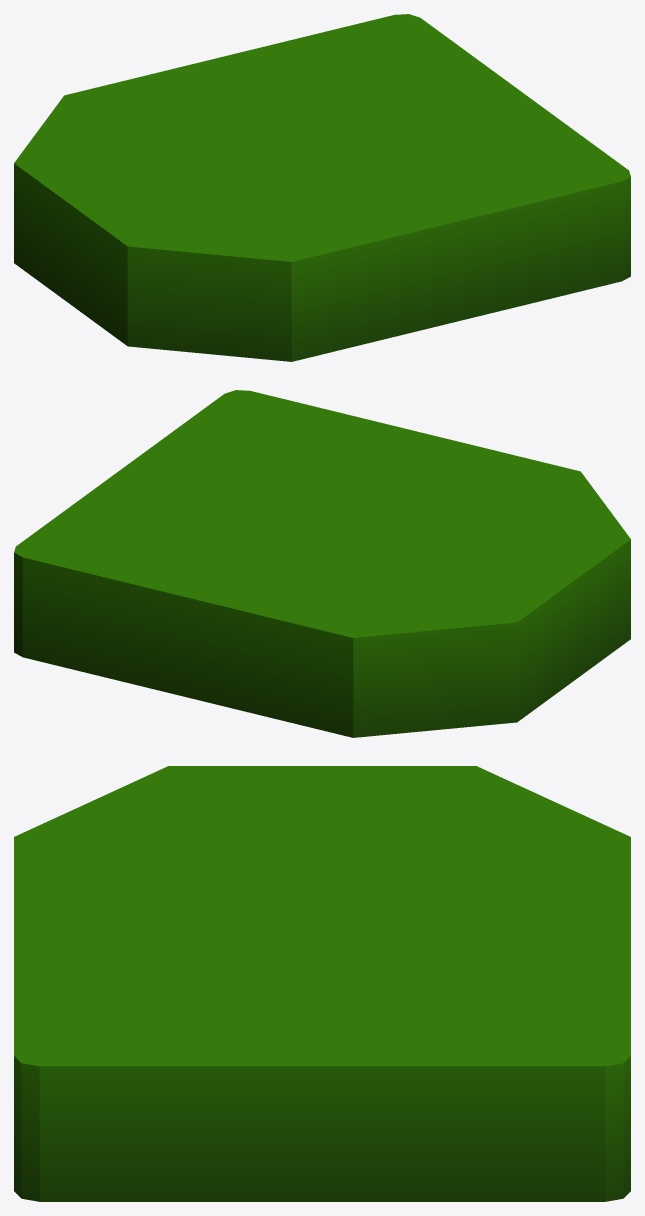
File: levetta_monitor_onoff.fbx
3 views of the same model, one above another, from view 1: azimuth 30°, elevation 25°; view 2: azimuth 150°, elevation 25°; view 3: azimuth 270°, elevation 25° (orthographic). The views are drawn at different scales.
Visible parts, largest first — view 1: levetta_monitor_onoff; view 2: levetta_monitor_onoff; view 3: levetta_monitor_onoff.
Boxes of the visible parts, bbox=[...] form: levetta_monitor_onoff: bbox=[14, 14, 630, 361]; levetta_monitor_onoff: bbox=[14, 390, 630, 737]; levetta_monitor_onoff: bbox=[14, 766, 630, 1201].
Size of the model in its own units: 1.57 by 0.3298 by 1.36.
